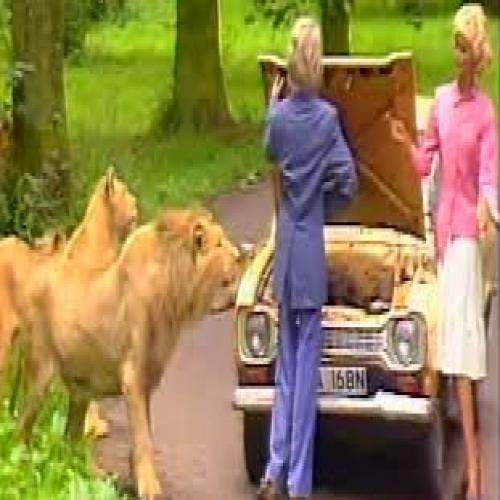lion-endangered: (19, 197, 236, 500), (0, 169, 140, 356)
